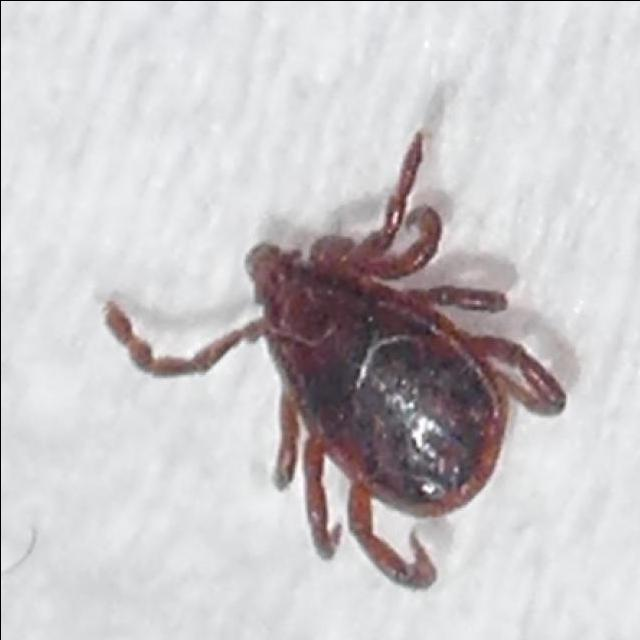Rhipicephalus Sanguineus-M: (104, 133, 568, 591)
